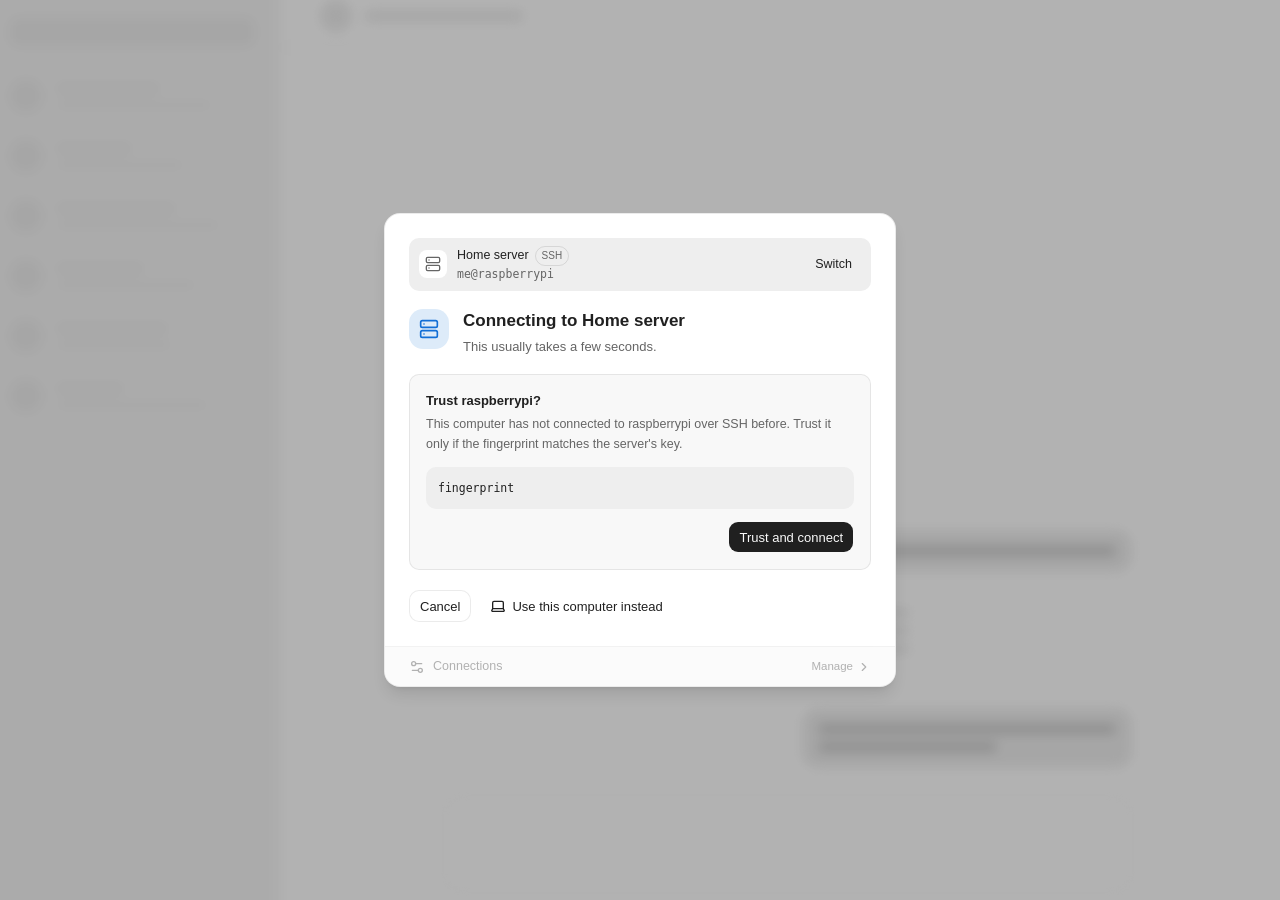
Scenario: ConnectionGate › opens no dialog for a question answered in the card when connecting then fails
Click the button "Trust and connect". click: (791, 537)
box: [728,521,854,553]
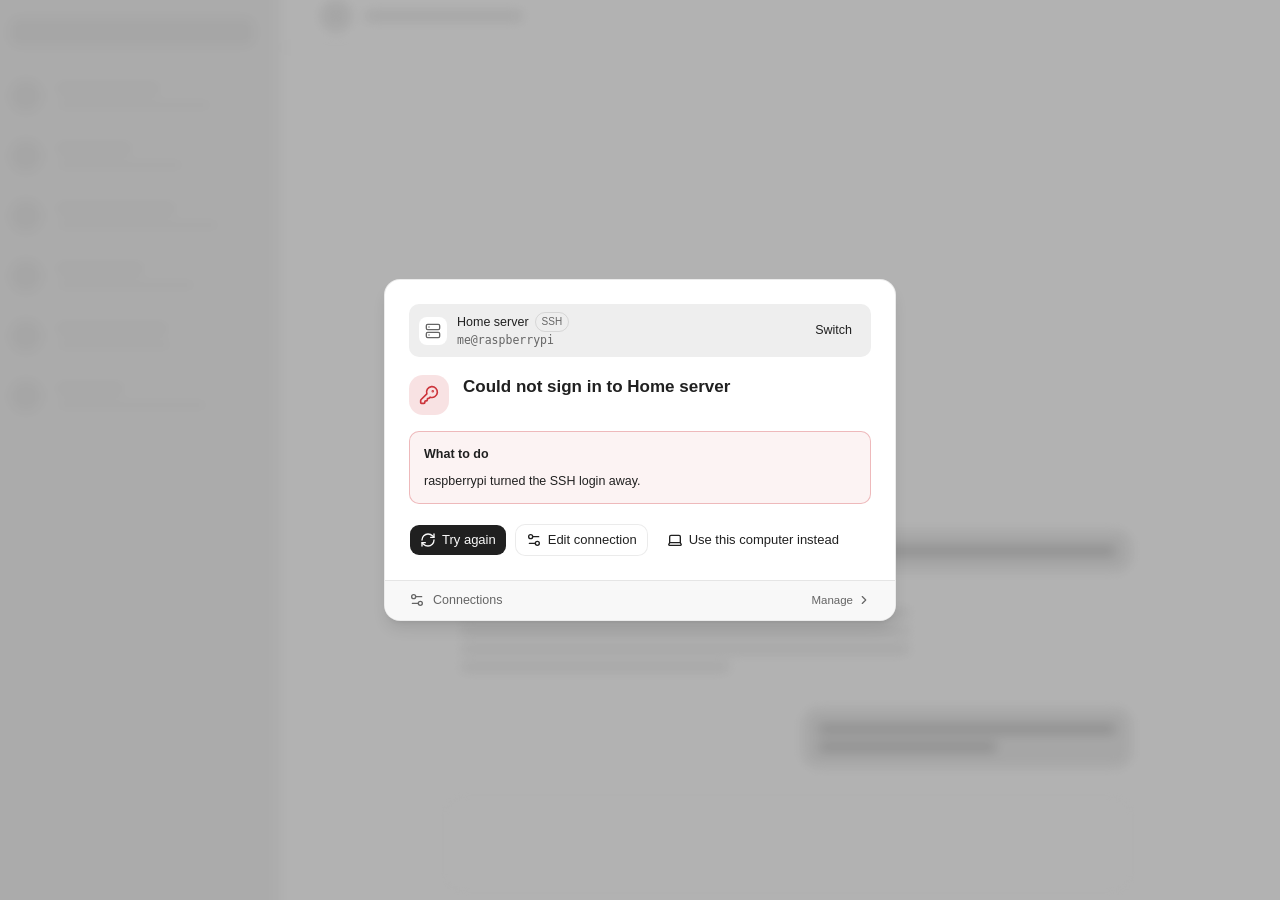
Expected: the heading "Could not sign in to Home server" is shown, [463,375,730,399]
Expected: the heading "Trust raspberrypi?" is gone
